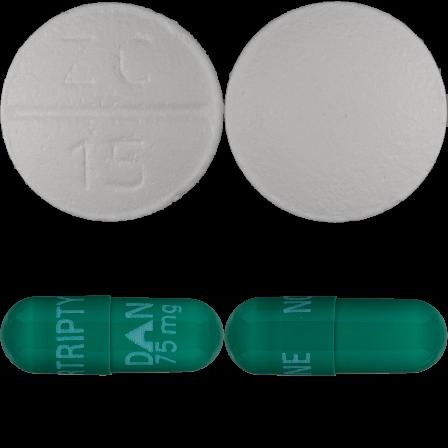49349-308: (0, 0, 224, 224)
